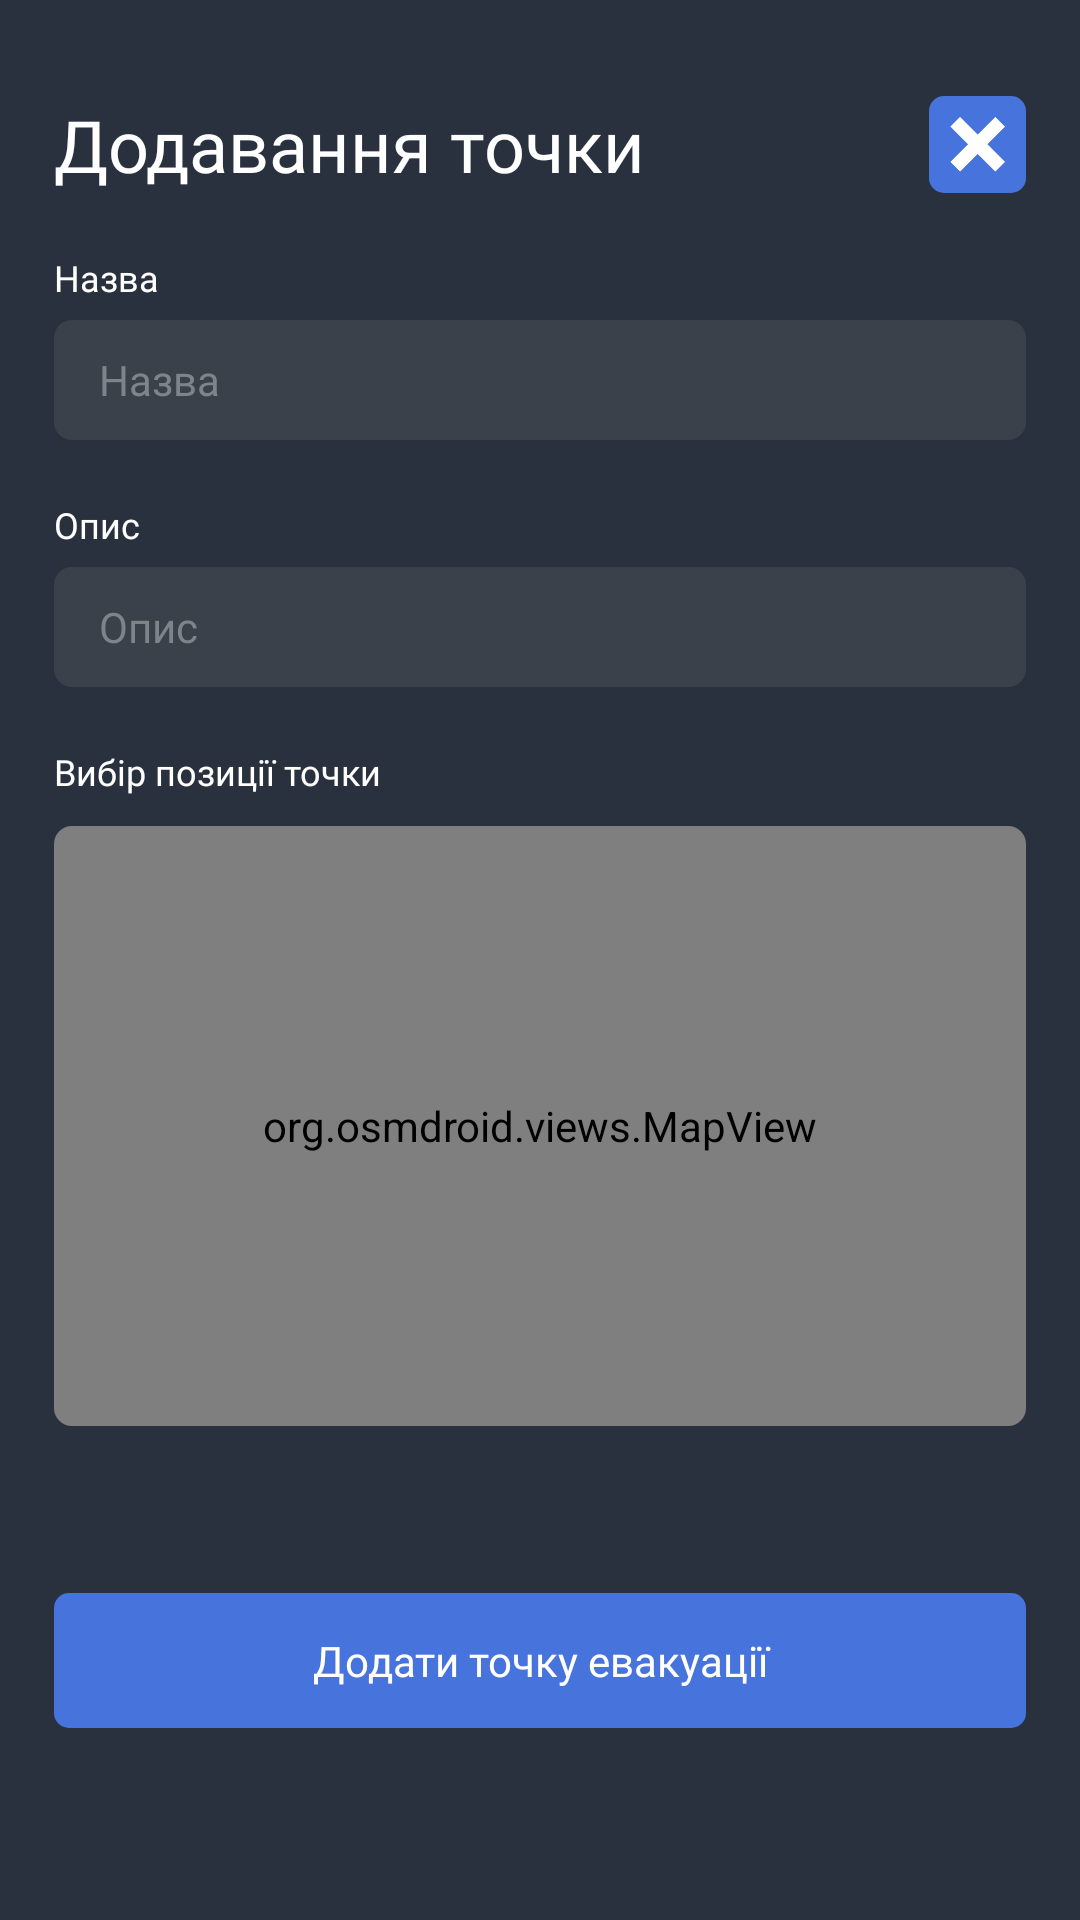

Icons on this 1080*1920 Android screen, each with its box as (x1, y1, x2, y2):
cross: (929, 96, 1026, 193)
